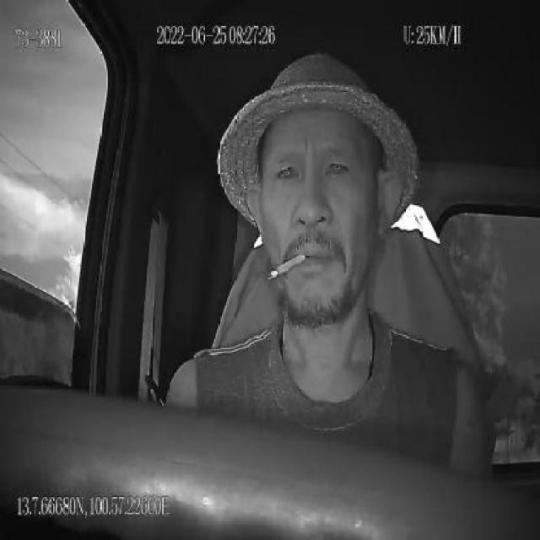smoking: (268, 251, 306, 282)
